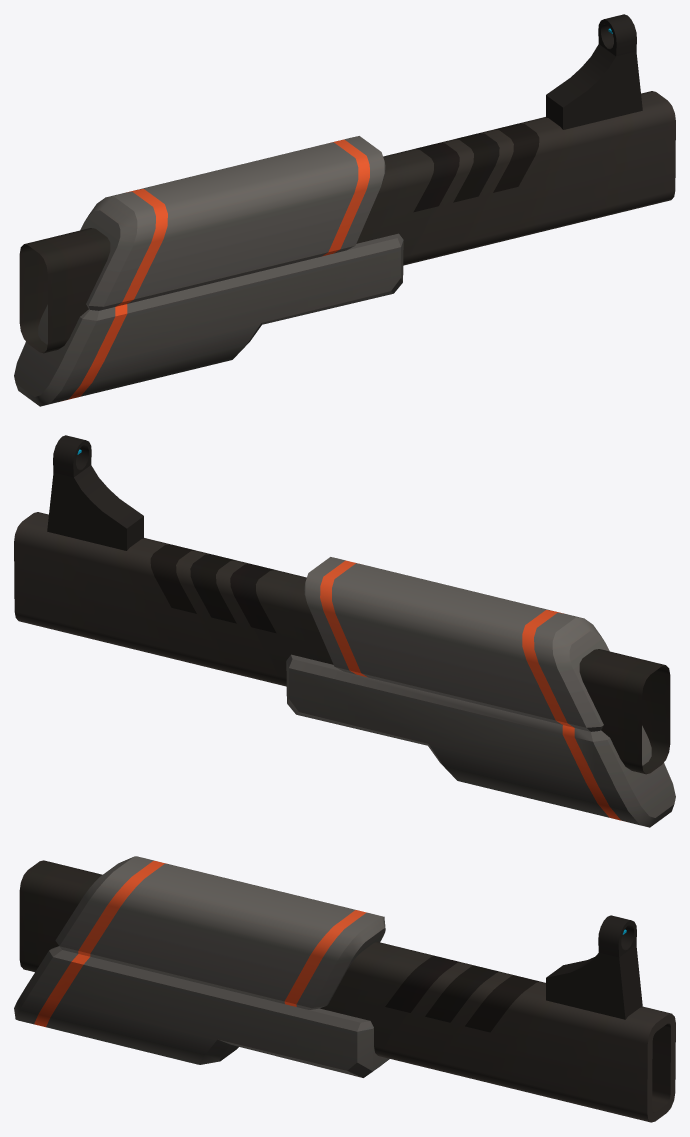
File: AR3_Barrel_Stock.fbx
3 renders of one model, top to bottom at view 1: azimuth 30°, elevation 25°; view 2: azimuth 150°, elevation 25°; view 3: azimuth 330°, elevation 25°, orthographic.
Visible parts, largest first — view 1: AR3_Barrel_Stock; view 2: AR3_Barrel_Stock; view 3: AR3_Barrel_Stock.
Part boxes in pixels (<box>): AR3_Barrel_Stock: <box>14,14,675,406</box>; AR3_Barrel_Stock: <box>14,435,675,827</box>; AR3_Barrel_Stock: <box>14,856,675,1122</box>.
Bounding box in the file's own units: 34.62 × 12.32 × 4.14.
